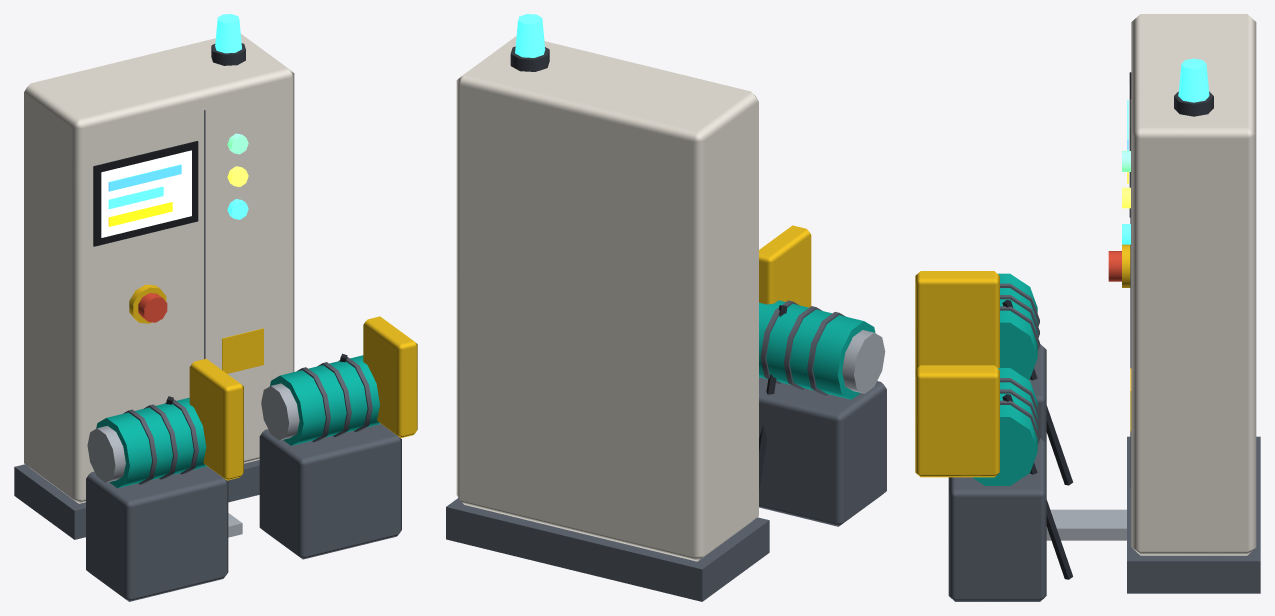
File: station_transport_ausstattung_2_3.glb
The picture shows the model from 3 angles, left to right: view 1: azimuth 30°, elevation 25°; view 2: azimuth 150°, elevation 25°; view 3: azimuth 270°, elevation 25°; orthographic projection. The views are drawn at different scales.
Visible parts, largest first — view 1: station_transport_ausstattung_2_3; view 2: station_transport_ausstattung_2_3; view 3: station_transport_ausstattung_2_3.
Boxes of the visible parts, x1,y1,x2,y2 form: station_transport_ausstattung_2_3: (14, 14, 417, 601); station_transport_ausstattung_2_3: (446, 14, 886, 601); station_transport_ausstattung_2_3: (915, 14, 1260, 601).
Size of the model in its own units: 0.81 by 1.25 by 0.775.
